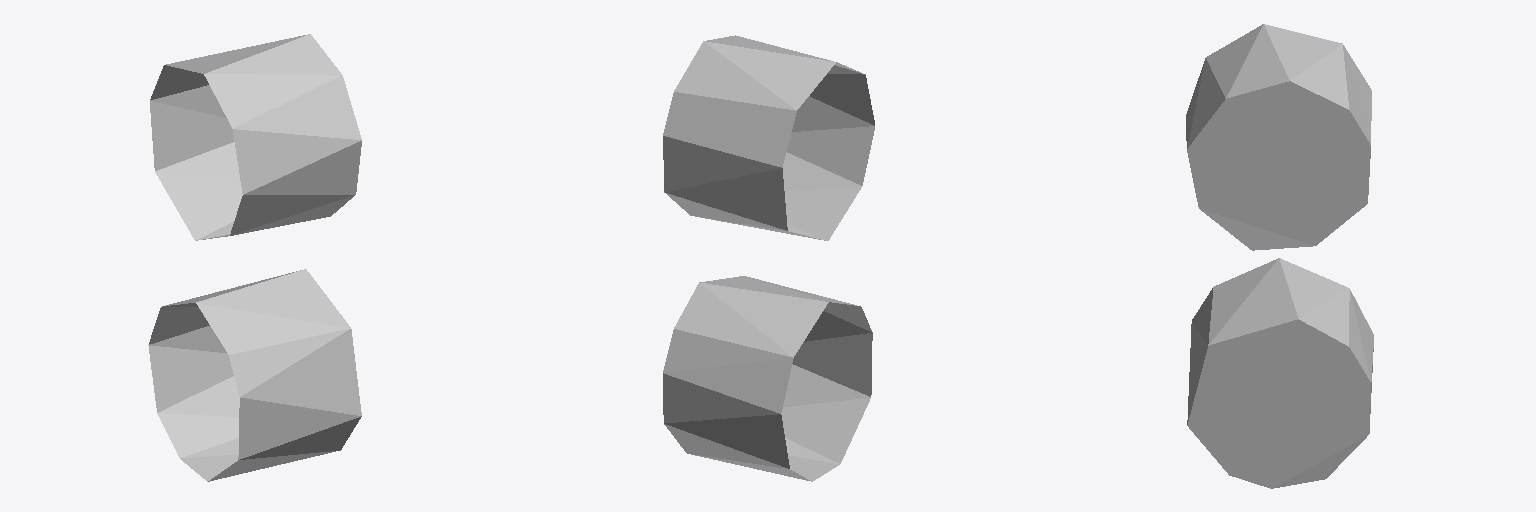
The model's file is srf05.obj.
The picture shows the model from 3 angles: view 1: azimuth 30°, elevation 25°; view 2: azimuth 150°, elevation 25°; view 3: azimuth 270°, elevation 25°; orthographic projection.
Visible parts, largest first — view 1: srf05; view 2: srf05; view 3: srf05.
Part boxes in pixels (x1,y1,x2,y2): srf05: (148, 34, 361, 481); srf05: (663, 35, 874, 481); srf05: (1186, 24, 1373, 488).
Size of the model in its own units: 0.0122 by 0.0393 by 0.0165.